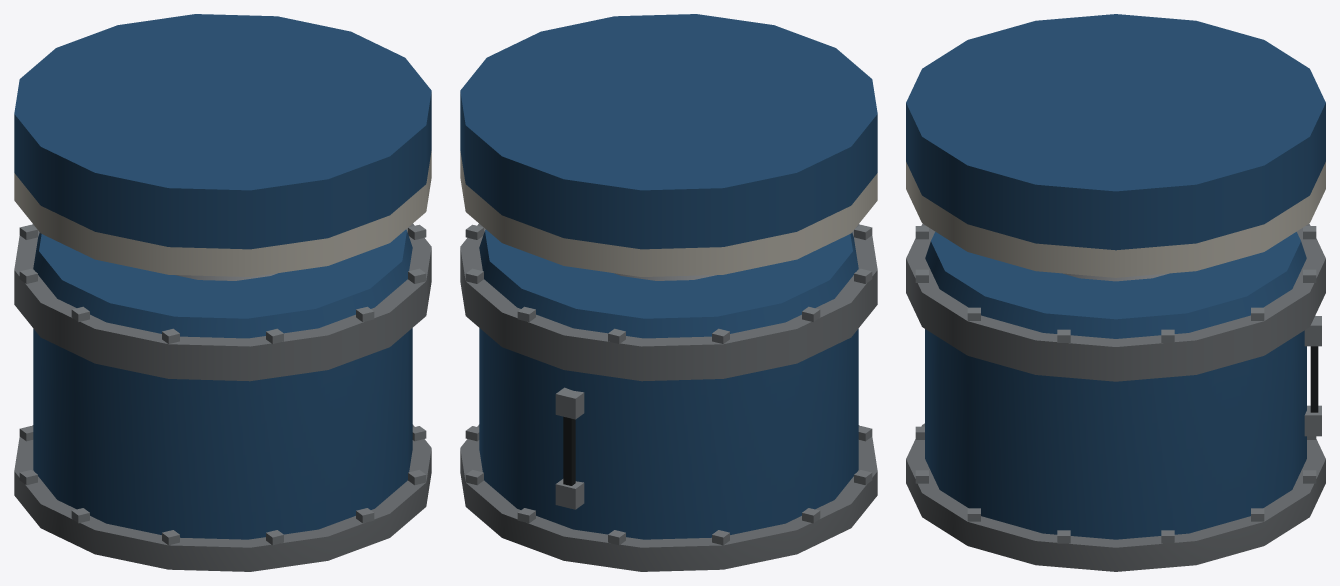
File: machine.piston.blue.glb
3 views of the same model, side by side, from view 1: azimuth 30°, elevation 25°; view 2: azimuth 150°, elevation 25°; view 3: azimuth 270°, elevation 25° (orthographic).
Visible parts, largest first — view 1: machine_piston_blue; view 2: machine_piston_blue; view 3: machine_piston_blue.
Part boxes in pixels (bbox=[...]): machine_piston_blue: bbox=[14, 14, 431, 571]; machine_piston_blue: bbox=[460, 14, 877, 571]; machine_piston_blue: bbox=[906, 14, 1325, 571].
Size of what is drawn, in the model's own units: 2.2 by 2.2 by 2.2.
